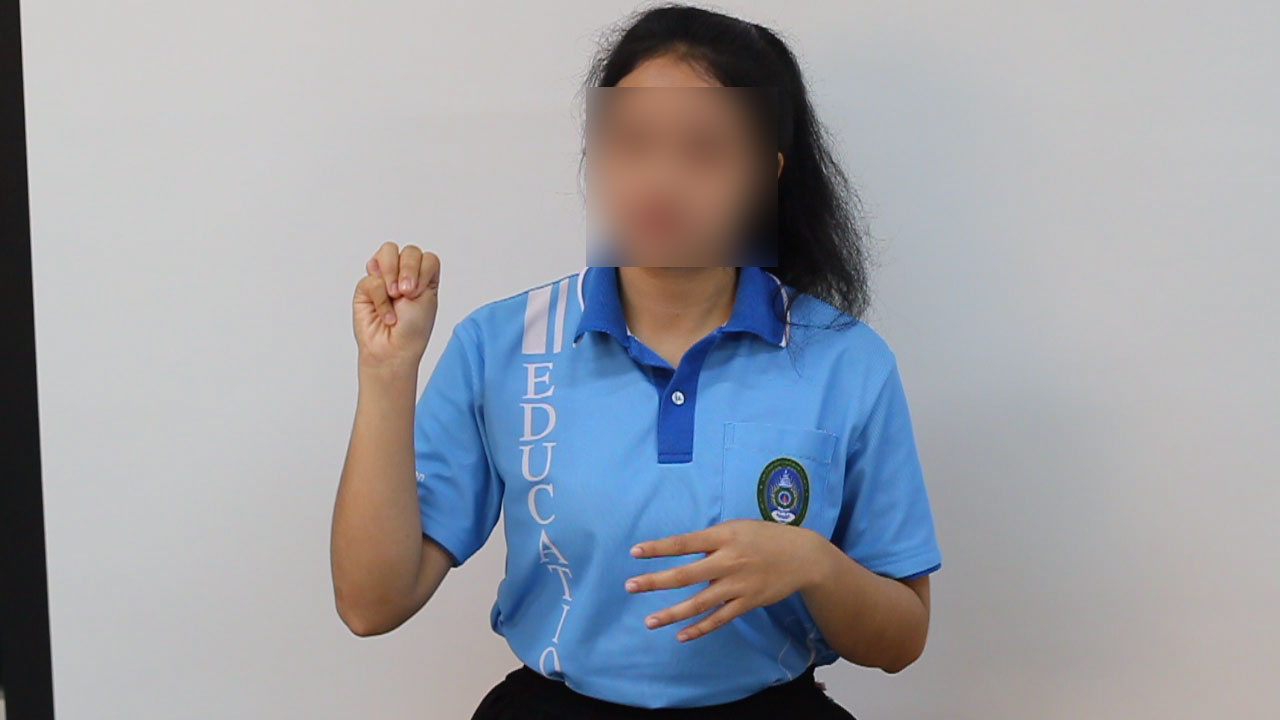mor: (344, 217, 447, 381)
